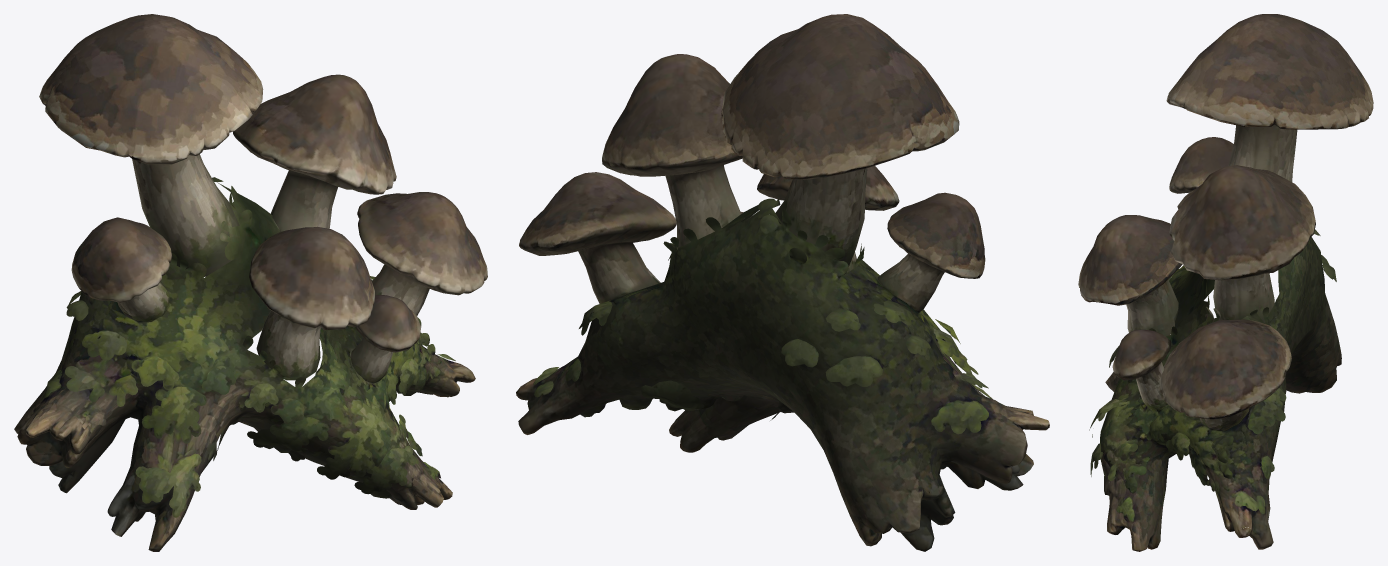
File: biome-prop-mushrooms.glb
The picture shows the model from 3 angles, left to right: view 1: azimuth 30°, elevation 25°; view 2: azimuth 150°, elevation 25°; view 3: azimuth 270°, elevation 25°; orthographic projection. The views are drawn at different scales.
Parts seen in each view (by area): view 1: mushrooms; view 2: mushrooms; view 3: mushrooms.
Boxes of the visible parts, <box> form: mushrooms: <box>14,14,487,551</box>; mushrooms: <box>516,14,1049,551</box>; mushrooms: <box>1078,14,1373,551</box>.
Bounding box in the file's own units: 0.2999 × 0.2999 × 0.1821.
1 material, 1 textured.
